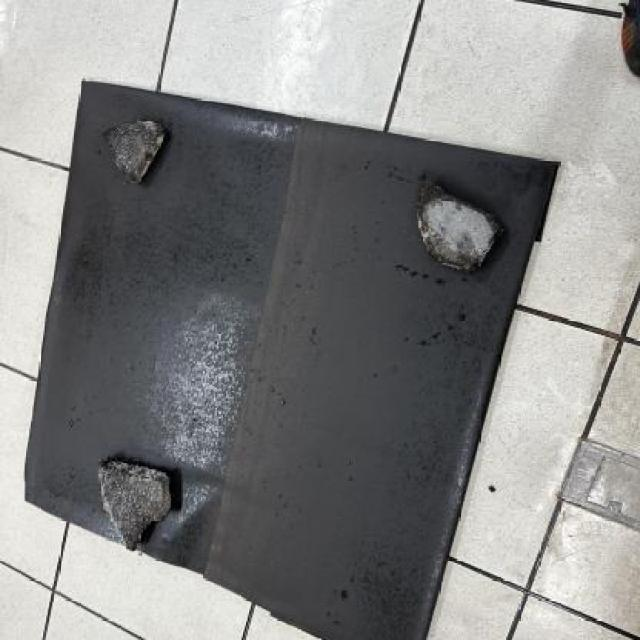Road Debris: (92, 460, 146, 546), (100, 114, 169, 180), (432, 226, 478, 269)
